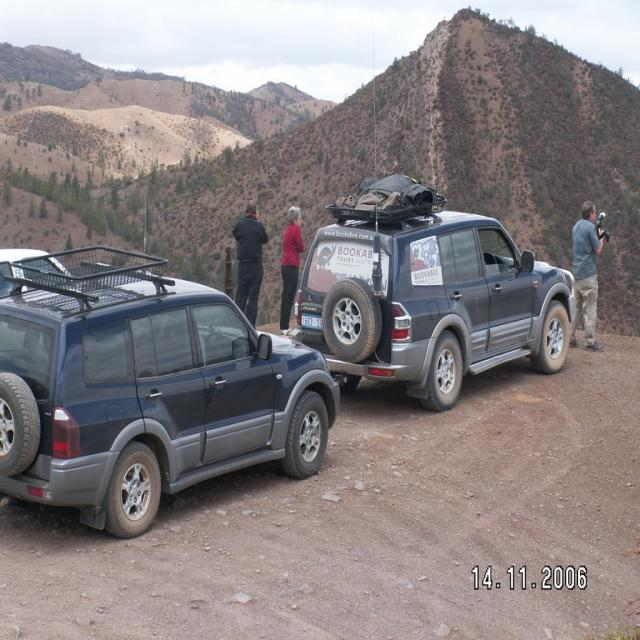car: (288, 10, 578, 412)
